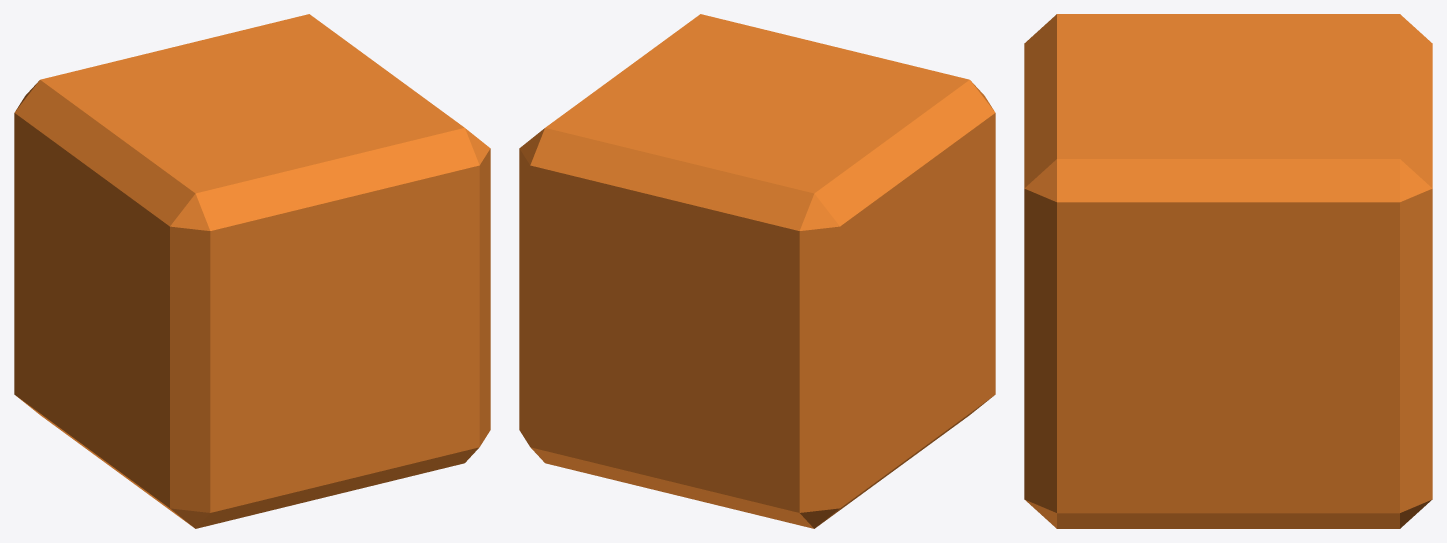
File: debris_brick.glb
3 renders of one model, left to right at view 1: azimuth 30°, elevation 25°; view 2: azimuth 150°, elevation 25°; view 3: azimuth 270°, elevation 25°, orthographic. The views are drawn at different scales.
Parts seen in each view (by area): view 1: debris_brick; view 2: debris_brick; view 3: debris_brick.
Part boxes in pixels (left/top/right/bottom): debris_brick: left=14, top=14, right=490, bottom=528; debris_brick: left=519, top=14, right=995, bottom=528; debris_brick: left=1024, top=14, right=1432, bottom=528.
Size of the model in its own units: 0.075 by 0.075 by 0.075.
